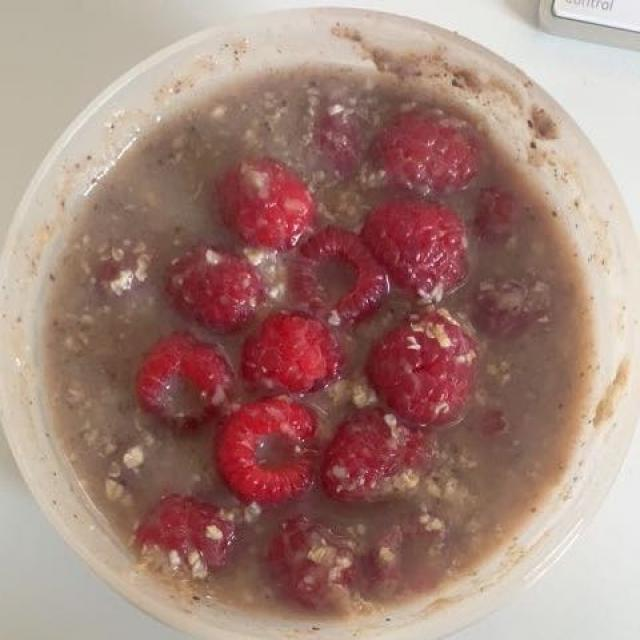oats: (69, 69, 594, 565)
raspberries: (97, 65, 579, 562)
